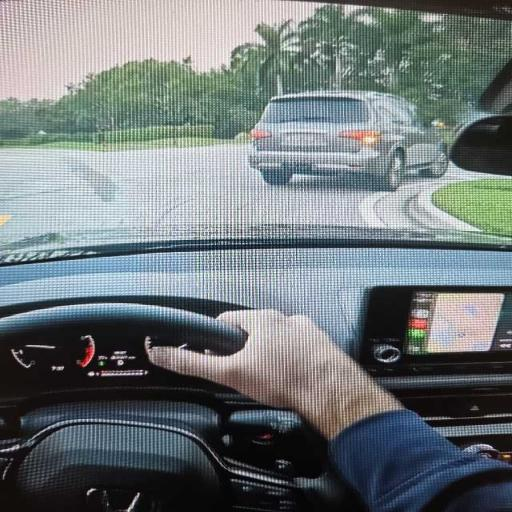car: (249, 91, 447, 190)
lane: (0, 145, 478, 240), (369, 165, 486, 230)
person: (150, 311, 511, 511)
